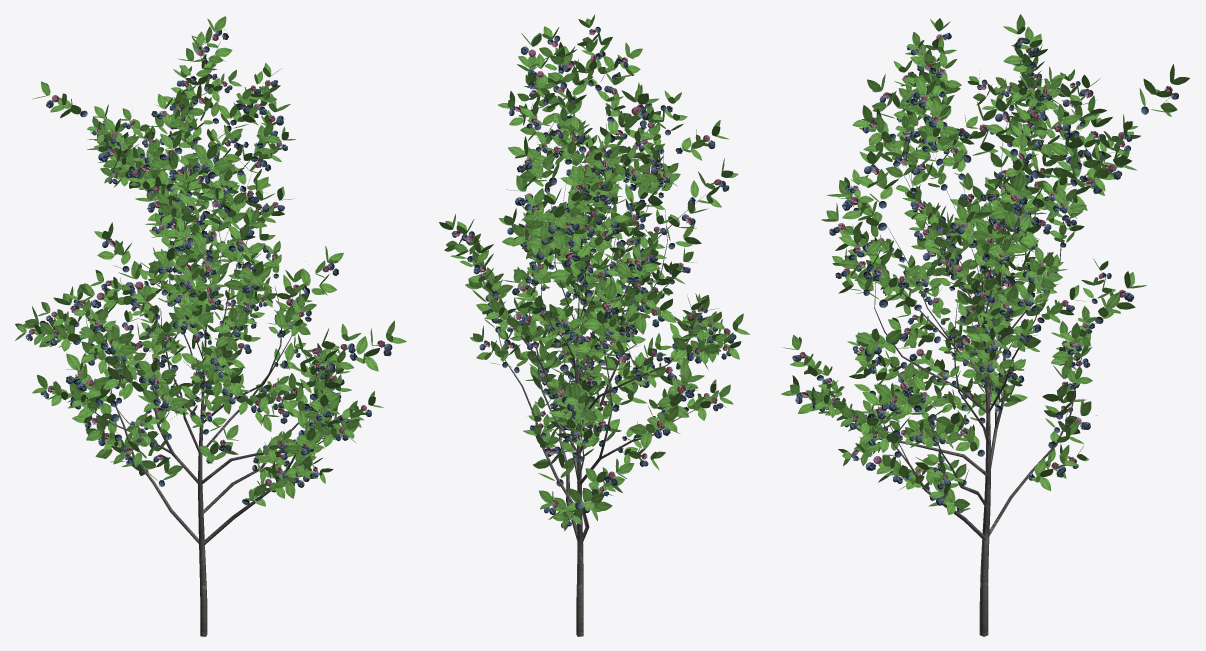
Rendered from blueberry_nocolor.fbx.
3 views of the same model, side by side, from view 1: azimuth 30°, elevation 25°; view 2: azimuth 150°, elevation 25°; view 3: azimuth 270°, elevation 25° (orthographic). The views are drawn at different scales.
Parts seen in each view (by area): view 1: Tree.001, 076.084, 076.077, 076.155, 076.101, 076.089, 076.070, 076.146, 076.156, 076.060, 076.069, 076.147 (+31 smaller); view 2: Tree.001, 076.057, 076.069, 076.019, 076.113, 076.067, 076.060, 076.089, 076.127, 076.006, 076.107, 076.110 (+50 smaller); view 3: Tree.001, 076.019, 076.195, 076.101, 076.077, 076.142, 076.107, 076.146, 076.042, 076.038, 076.156, 076.126 (+37 smaller).
Boxes of the visible parts, x1,y1,x2,y2 form: Tree.001: [81, 115, 338, 636]; 076.084: [88, 326, 137, 363]; 076.077: [349, 320, 406, 371]; 076.155: [142, 381, 188, 415]; 076.101: [224, 261, 272, 303]; 076.089: [187, 144, 233, 178]; 076.070: [103, 359, 147, 399]; 076.146: [301, 246, 343, 295]; 076.156: [191, 16, 232, 64]; 076.060: [66, 352, 110, 405]; 076.069: [118, 260, 159, 320]; 076.147: [148, 247, 190, 282]; Tree.001: [475, 93, 704, 636]; 076.057: [629, 405, 679, 449]; 076.069: [582, 280, 628, 336]; 076.019: [508, 136, 559, 188]; 076.113: [673, 337, 720, 369]; 076.067: [627, 290, 676, 334]; 076.060: [661, 359, 704, 417]; 076.089: [608, 82, 659, 142]; 076.127: [549, 243, 593, 285]; 076.006: [566, 488, 612, 520]; 076.107: [555, 382, 597, 422]; 076.110: [585, 458, 634, 492]; Tree.001: [829, 100, 1125, 636]; 076.019: [1034, 104, 1081, 157]; 076.195: [989, 171, 1036, 227]; 076.101: [827, 177, 886, 230]; 076.077: [874, 383, 925, 419]; 076.142: [855, 147, 898, 208]; 076.107: [1095, 271, 1146, 323]; 076.146: [839, 226, 881, 276]; 076.042: [855, 328, 902, 363]; 076.038: [852, 105, 896, 145]; 076.156: [1003, 14, 1042, 69]; 076.126: [1139, 64, 1189, 116].
Bounding box in the file's own units: 90.99 × 158 × 93.16.
Materials: 4 (4 with a texture image).
